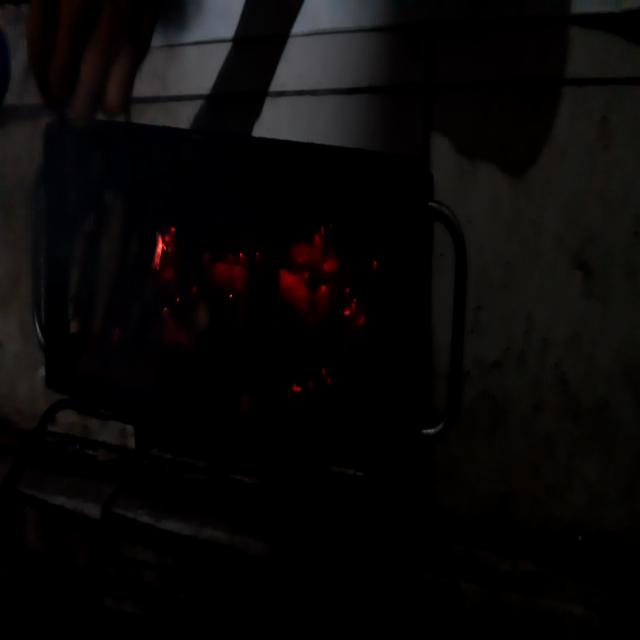Fire: (146, 205, 374, 366)
